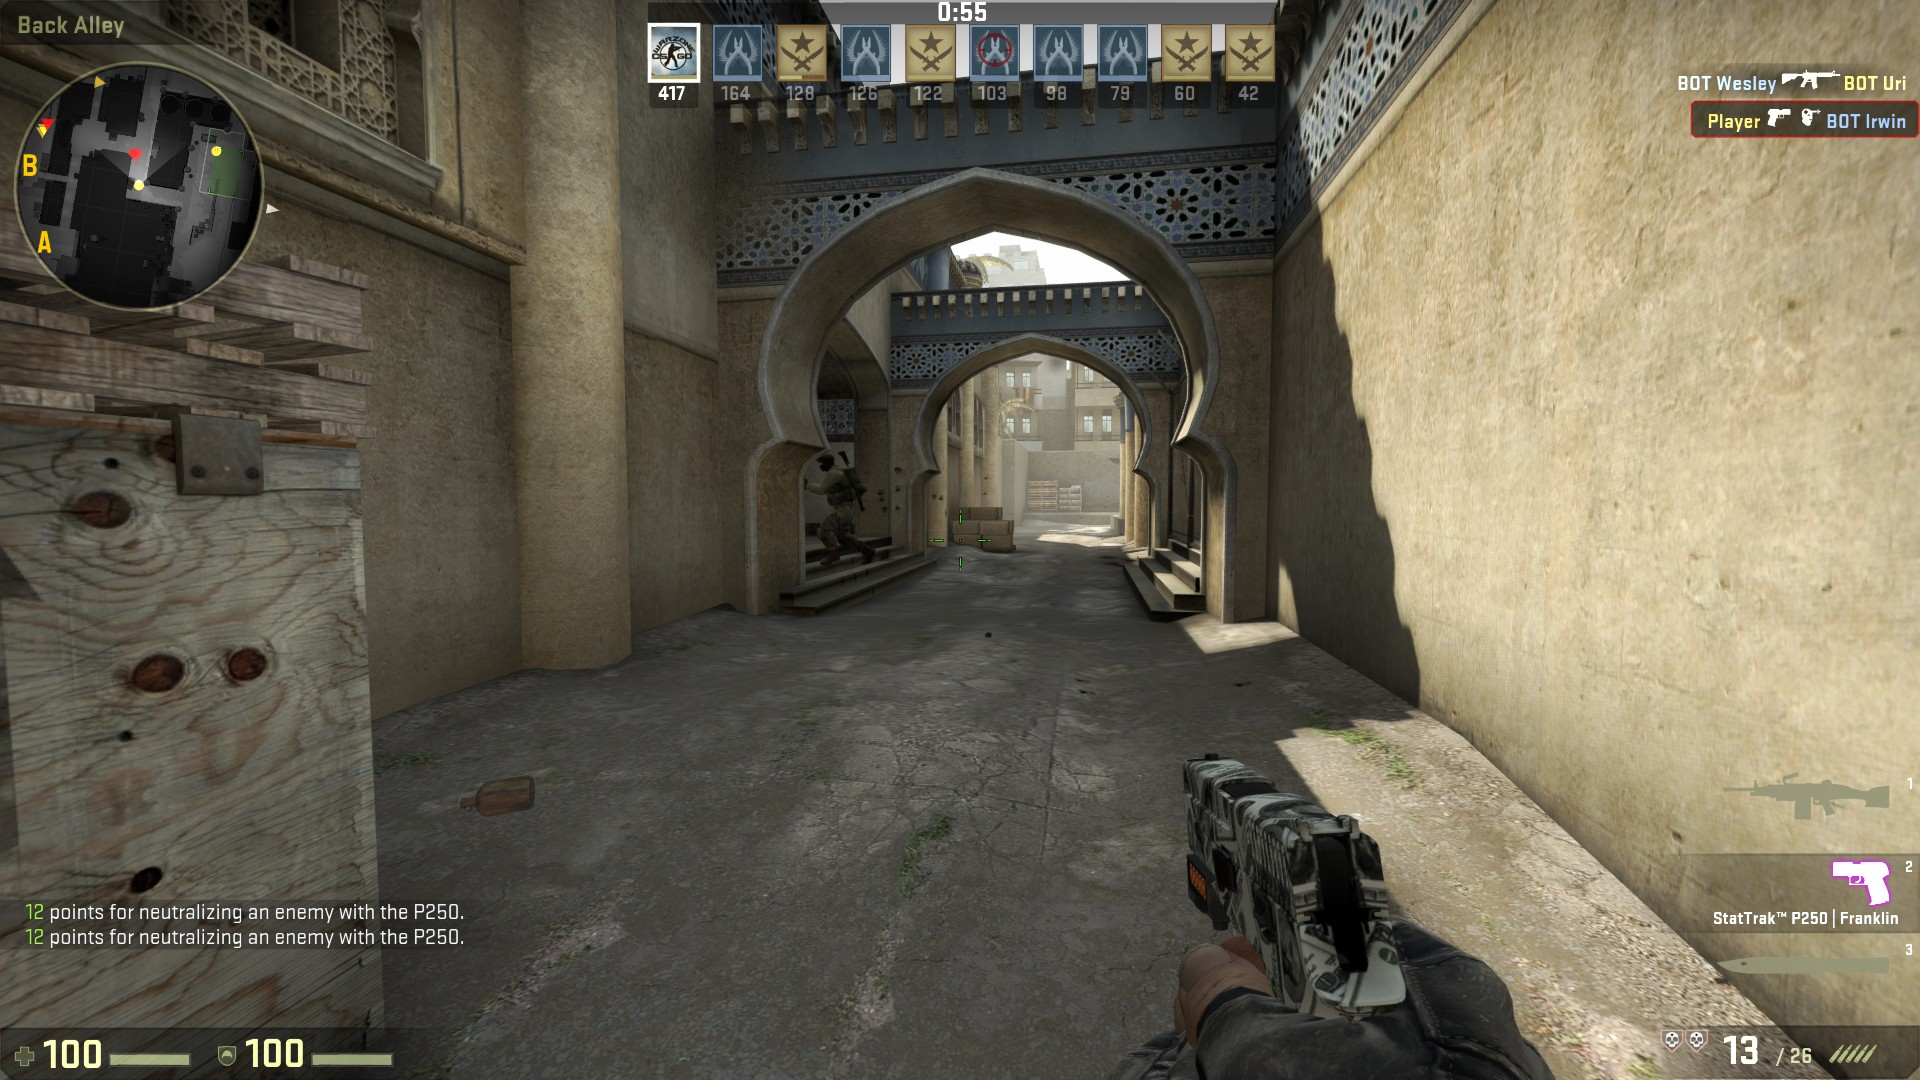c: (811, 451, 865, 567)
ch: (815, 452, 836, 471)
